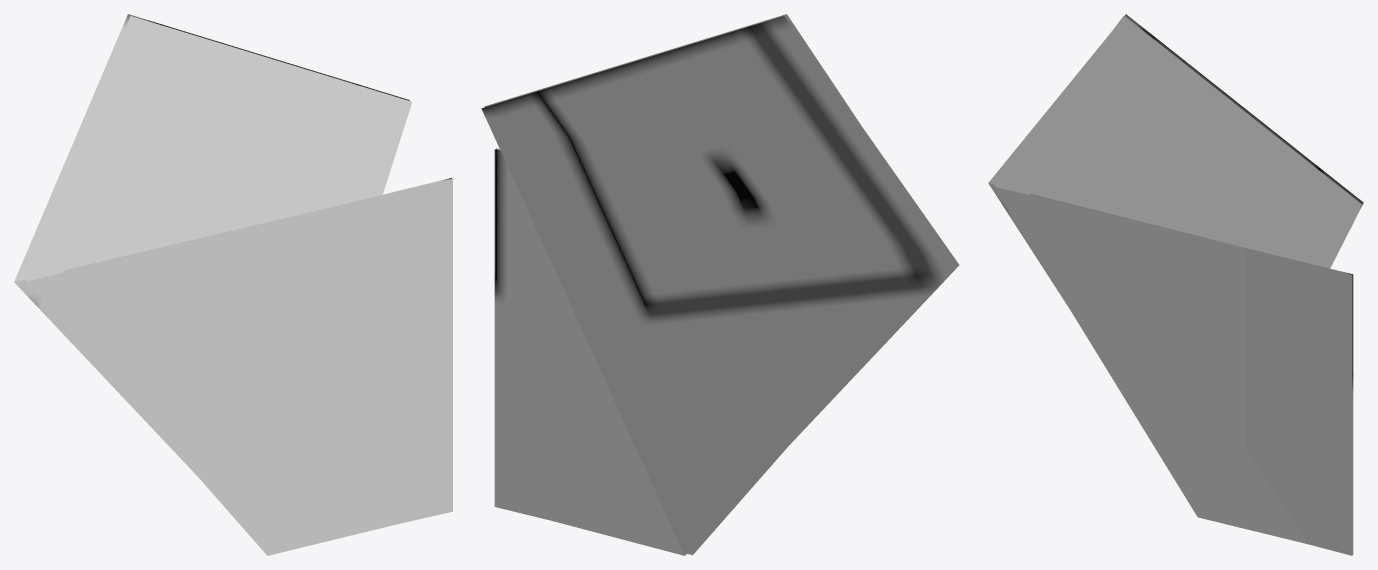
Rendered from dollar_note_50_folded.fbx.
3 views of the same model, side by side, from view 1: azimuth 30°, elevation 25°; view 2: azimuth 150°, elevation 25°; view 3: azimuth 330°, elevation 25° (orthographic). The views are drawn at different scales.
Visible parts, largest first — view 1: dollar note 50 folded; view 2: dollar note 50 folded; view 3: dollar note 50 folded.
Boxes of the visible parts, box(x1,y1,x2,y2) form: dollar note 50 folded: box(14, 14, 452, 555); dollar note 50 folded: box(481, 14, 959, 555); dollar note 50 folded: box(988, 14, 1363, 555).
Size of the model in its own units: 27.35 by 32.98 by 3.08.
